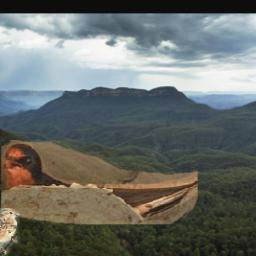Sparrow: (0, 208, 19, 256)
Swallow: (1, 140, 198, 224)
